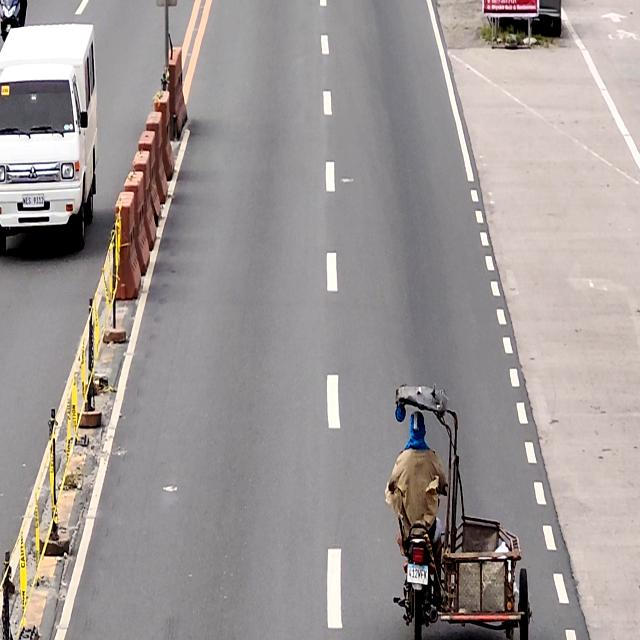License-Plate: (408, 565, 428, 586)
Tricycle: (390, 385, 531, 640)
